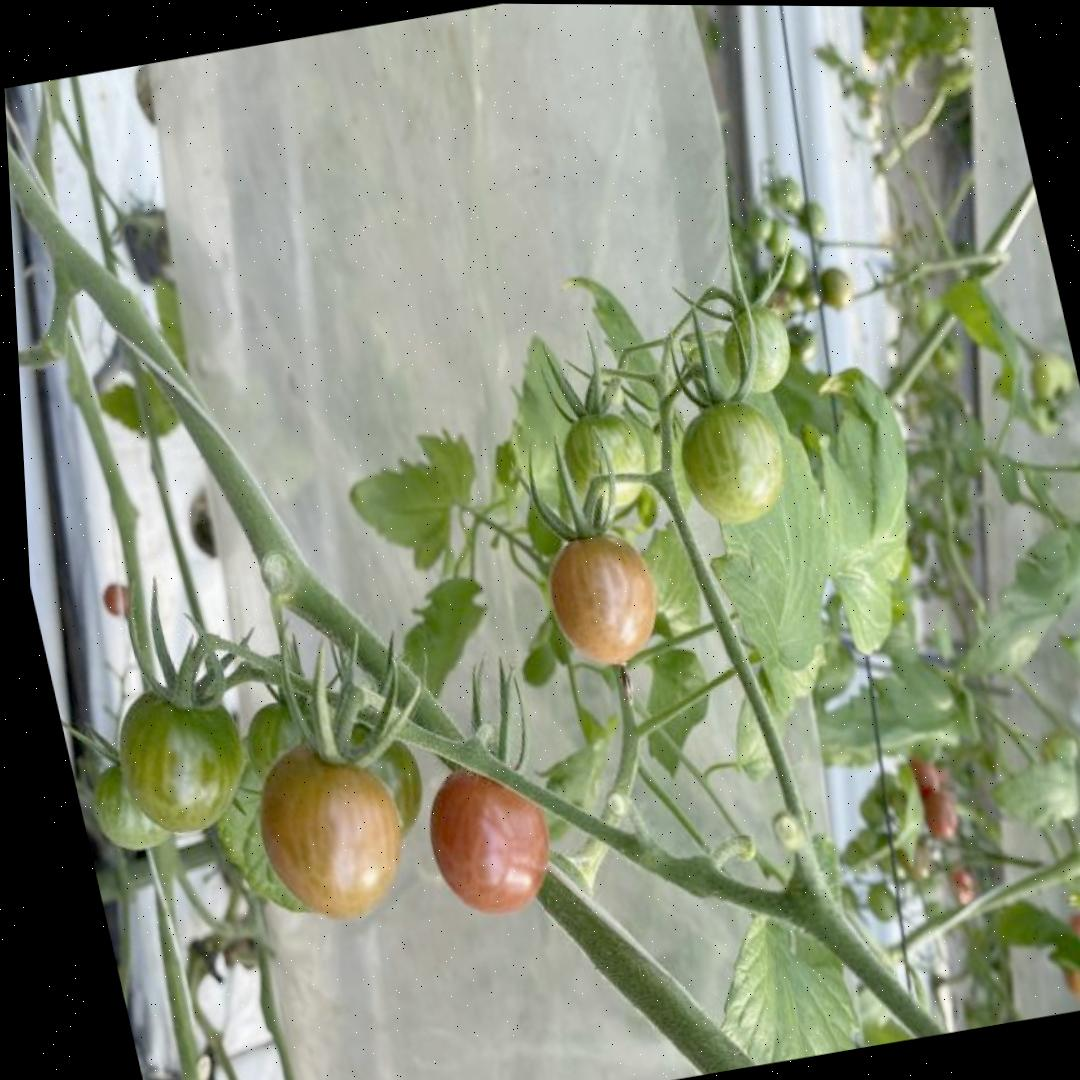matang: (410, 746, 571, 924)
mentah: (99, 672, 261, 844), (669, 391, 799, 532), (547, 400, 656, 516), (710, 298, 801, 399)
setengah_matang: (239, 723, 423, 933), (533, 522, 672, 672)
